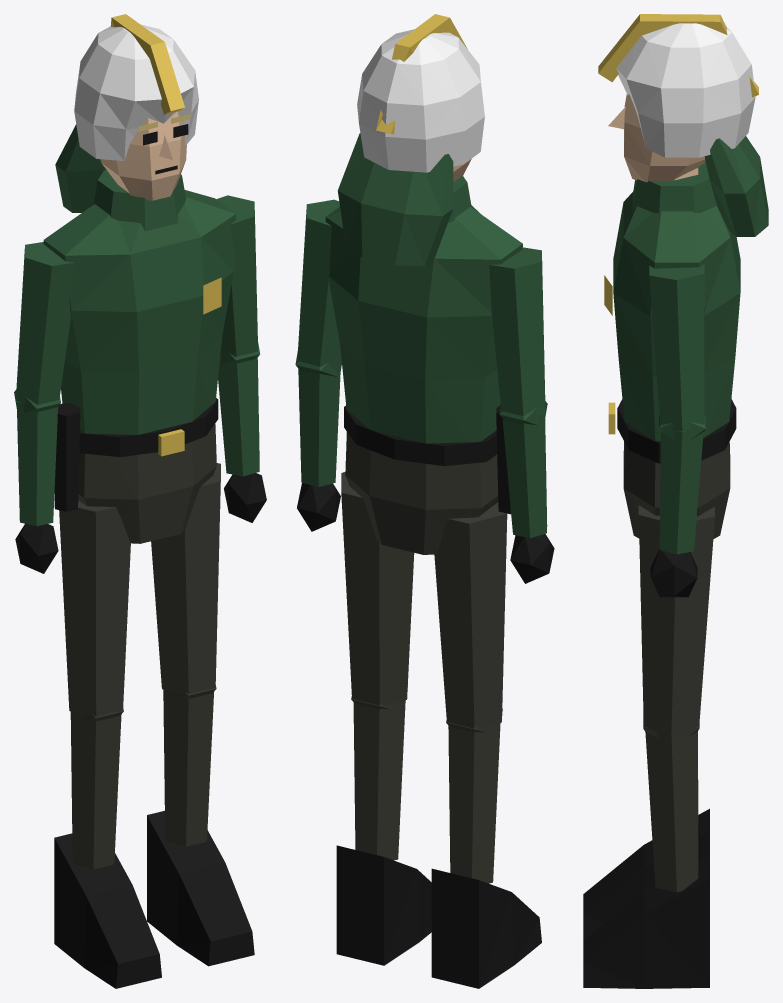
The model's file is deputy-lindqvist.glb.
3 views of the same model, side by side, from view 1: azimuth 30°, elevation 25°; view 2: azimuth 150°, elevation 25°; view 3: azimuth 270°, elevation 25° (orthographic). The views are drawn at different scales.
Parts seen in each view (by area): view 1: chest_mesh, shin_r_mesh, shin_l_mesh, head_mesh, thigh_r_mesh, hips_mesh, thigh_l_mesh, upper_arm_r_mesh, forearm_r_mesh, forearm_l_mesh, upper_arm_l_mesh, head_detail (+4 smaller); view 2: chest_mesh, shin_r_mesh, shin_l_mesh, head_mesh, hips_mesh, thigh_r_mesh, thigh_l_mesh, hair_mesh, upper_arm_r_mesh, forearm_r_mesh, forearm_l_mesh, upper_arm_l_mesh (+2 smaller); view 3: chest_mesh, shin_l_mesh, head_mesh, thigh_l_mesh, upper_arm_l_mesh, forearm_l_mesh, hips_mesh, hair_mesh, shin_r_mesh, head_detail.
Boxes of the visible parts, x1,y1,x2,y2 form: chest_mesh: (43,170,235,434); shin_r_mesh: (54,711,161,988); shin_l_mesh: (147,689,254,966); head_mesh: (74,24,198,200); thigh_r_mesh: (59,500,130,721); hips_mesh: (78,398,218,543); thigh_l_mesh: (151,463,220,698); upper_arm_r_mesh: (14,242,75,412); forearm_r_mesh: (15,401,58,573); forearm_l_mesh: (218,357,266,522); upper_arm_l_mesh: (216,195,259,365); head_detail: (110,14,190,174); chest_mesh: (325,175,522,443); shin_r_mesh: (431,723,541,988); shin_l_mesh: (336,700,431,965); head_mesh: (357,29,484,181); hips_mesh: (344,405,498,554); thigh_r_mesh: (434,502,507,732); thigh_l_mesh: (341,472,414,709); hair_mesh: (337,133,453,266); upper_arm_r_mesh: (489,247,547,425); forearm_r_mesh: (502,412,554,583); forearm_l_mesh: (297,366,340,531); upper_arm_l_mesh: (295,199,341,376); chest_mesh: (613,162,740,440); shin_l_mesh: (583,731,709,988); head_mesh: (616,23,755,182); thigh_l_mesh: (638,505,714,738); upper_arm_l_mesh: (649,264,705,441); forearm_l_mesh: (650,430,703,597); hips_mesh: (617,399,736,538); hair_mesh: (704,136,768,236); shin_r_mesh: (583,731,709,940); head_detail: (598,14,758,129).
Bounding box in the file's own units: 0.5217 × 1.87 × 0.3366.
